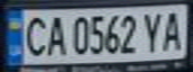0: (69, 12, 90, 56)
2: (118, 11, 142, 55)
5: (87, 12, 106, 55)
6: (103, 11, 124, 55)
A: (42, 12, 69, 57), (160, 8, 187, 52)
C: (18, 12, 51, 57)
Y: (139, 9, 166, 53)
